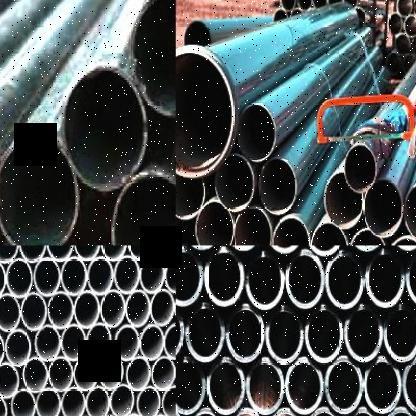pipe: (62, 65, 148, 192), (0, 134, 78, 246), (176, 44, 237, 178), (130, 0, 176, 115), (110, 170, 176, 245), (363, 179, 403, 238), (185, 303, 225, 362), (344, 303, 383, 363), (365, 250, 405, 308), (245, 252, 285, 310), (215, 153, 254, 212), (325, 250, 363, 310), (305, 304, 344, 362), (205, 247, 244, 305), (285, 250, 324, 308), (238, 103, 276, 162), (266, 306, 304, 364), (246, 357, 284, 415), (207, 358, 245, 416), (258, 158, 297, 214), (324, 172, 363, 228), (226, 306, 264, 362), (285, 358, 323, 414), (325, 357, 362, 413), (364, 360, 401, 413), (382, 306, 416, 362), (196, 200, 234, 246), (176, 246, 204, 306), (176, 357, 205, 414), (344, 144, 376, 193), (234, 207, 271, 245), (176, 177, 205, 220), (272, 216, 310, 246), (35, 257, 62, 296), (62, 256, 88, 296), (6, 258, 32, 298), (140, 255, 166, 294), (115, 255, 140, 295), (88, 257, 114, 295), (100, 290, 126, 328), (35, 324, 61, 362), (74, 291, 100, 328), (48, 292, 74, 329), (21, 293, 47, 330), (5, 330, 31, 367), (48, 357, 74, 393), (151, 289, 175, 327), (126, 290, 150, 328), (22, 358, 48, 393), (87, 323, 112, 359), (310, 221, 347, 245), (62, 324, 86, 361), (115, 325, 140, 360), (401, 357, 416, 414), (126, 357, 151, 391), (74, 357, 99, 391), (140, 325, 164, 360), (100, 355, 124, 390), (0, 293, 21, 332), (152, 357, 175, 392), (183, 20, 211, 48), (403, 181, 416, 241), (110, 385, 135, 416), (36, 388, 62, 416), (86, 386, 110, 416), (0, 363, 20, 398), (136, 387, 160, 416), (62, 387, 86, 416), (12, 389, 36, 416), (405, 249, 416, 306), (349, 229, 387, 245), (176, 300, 184, 361), (19, 246, 47, 262), (47, 245, 74, 261), (164, 323, 176, 359), (101, 246, 127, 262), (74, 245, 100, 261), (162, 387, 176, 416), (385, 51, 401, 76), (165, 257, 176, 293), (304, 406, 342, 416), (344, 406, 381, 416), (128, 245, 154, 259), (387, 12, 403, 34), (395, 33, 411, 55), (381, 406, 416, 416), (226, 407, 264, 416), (186, 407, 224, 416), (266, 407, 303, 416), (0, 246, 19, 263), (154, 245, 176, 259), (403, 14, 416, 37), (395, 0, 412, 17), (273, 8, 288, 25), (0, 259, 6, 298), (280, 0, 296, 10), (296, 0, 310, 11), (0, 394, 7, 416), (0, 331, 4, 368), (311, 0, 326, 8), (343, 0, 358, 6), (411, 38, 416, 55), (412, 0, 416, 18), (328, 0, 342, 4), (122, 414, 146, 416)
